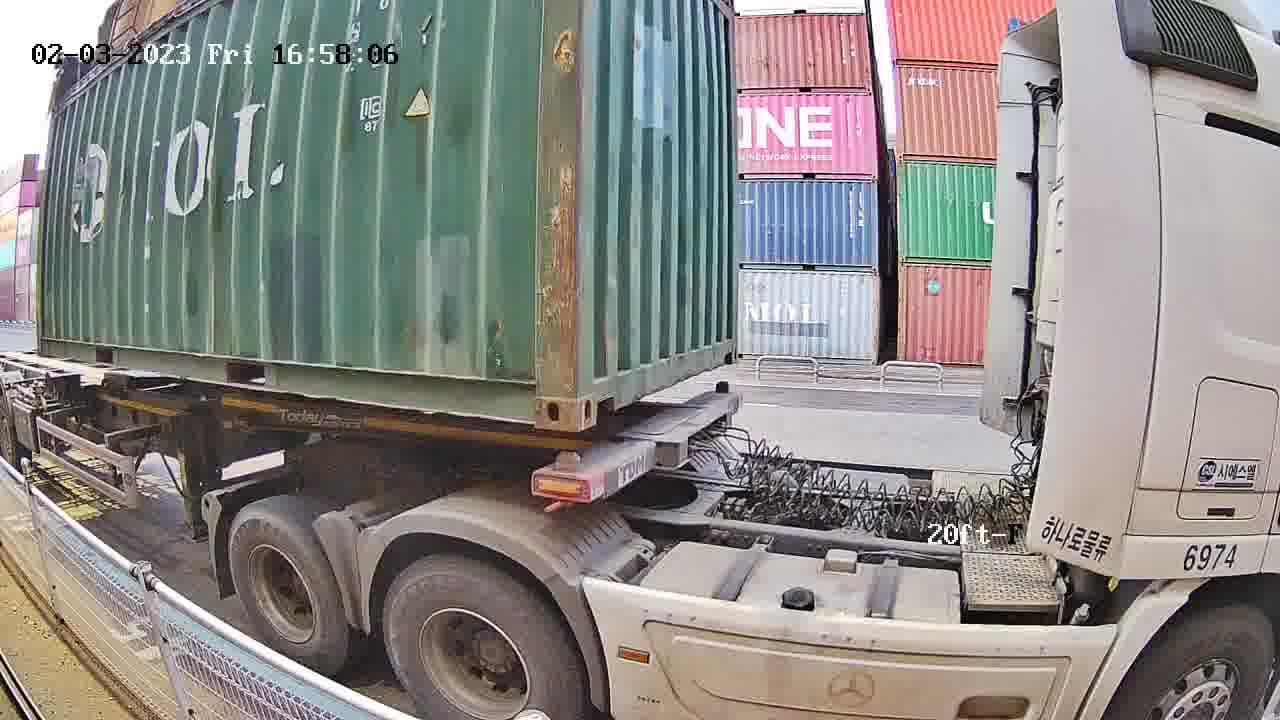Chassis: (531, 391, 739, 505)
Cone: (540, 445, 584, 512), (709, 380, 730, 397)
Hole_L: (575, 347, 623, 432)
Hole_R: (497, 353, 576, 434), (717, 322, 740, 365)
Tire: (383, 553, 581, 719), (228, 509, 346, 677)
